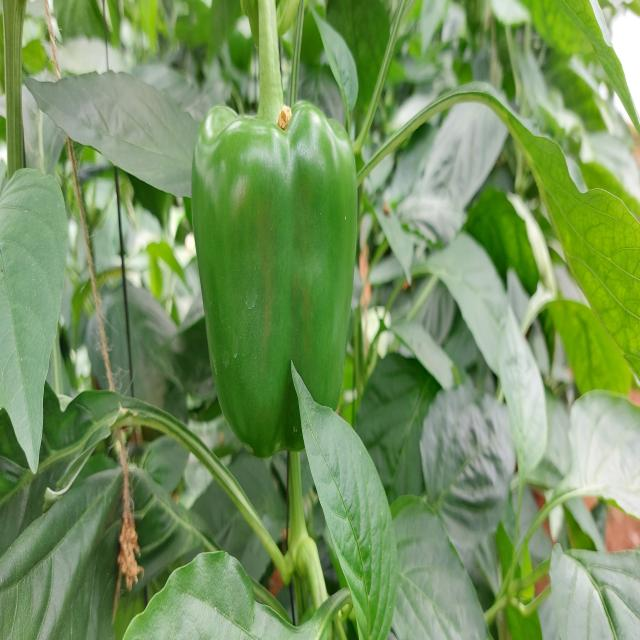Green--Not-ready-to-harvest: (199, 106, 362, 461)
